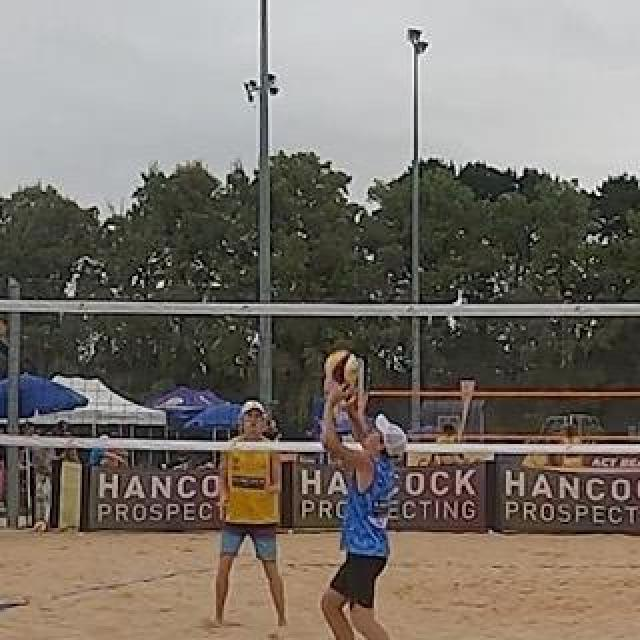volleyball: (325, 350, 359, 384)
